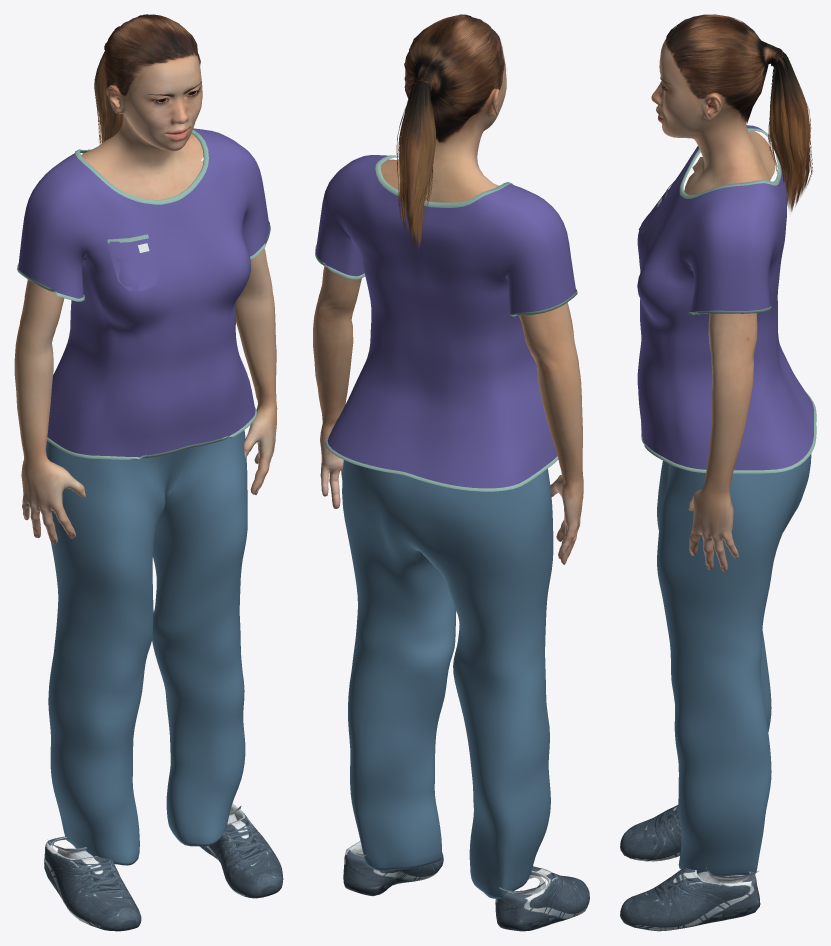
Rendered from female_patient.glb.
The picture shows the model from 3 angles, left to right: view 1: azimuth 30°, elevation 25°; view 2: azimuth 150°, elevation 25°; view 3: azimuth 270°, elevation 25°; orthographic projection. The views are drawn at different scales.
Visible parts, largest first — view 1: Clinical_Trousers, Clinical_Top, Visible_Skin, Clinical_Shoes, Hair, Shirt_Collar_Cuffs_Hem, Shirt_Chest_Pocket; view 2: Clinical_Trousers, Clinical_Top, Visible_Skin, Hair, Clinical_Shoes, Shirt_Collar_Cuffs_Hem; view 3: Clinical_Trousers, Clinical_Top, Visible_Skin, Hair, Clinical_Shoes, Shirt_Collar_Cuffs_Hem.
Part boxes in pixels (bbox=[...]): Clinical_Trousers: bbox=[46, 430, 247, 865]; Clinical_Top: bbox=[18, 128, 269, 457]; Visible_Skin: bbox=[14, 53, 277, 544]; Clinical_Shoes: bbox=[44, 803, 283, 931]; Hair: bbox=[94, 14, 200, 144]; Shirt_Collar_Cuffs_Hem: bbox=[17, 130, 270, 460]; Shirt_Chest_Pocket: bbox=[107, 234, 158, 290]; Clinical_Trousers: bbox=[342, 460, 553, 898]; Clinical_Top: bbox=[316, 155, 576, 488]; Visible_Skin: bbox=[313, 46, 583, 564]; Hair: bbox=[396, 14, 504, 250]; Clinical_Shoes: bbox=[343, 841, 589, 931]; Shirt_Collar_Cuffs_Hem: bbox=[315, 155, 577, 491]; Clinical_Trousers: bbox=[657, 454, 811, 876]; Clinical_Top: bbox=[637, 125, 813, 470]; Visible_Skin: bbox=[651, 39, 775, 571]; Hair: bbox=[666, 14, 813, 211]; Clinical_Shoes: bbox=[620, 805, 760, 931]; Shirt_Collar_Cuffs_Hem: bbox=[641, 128, 816, 473].
Size of the model in its own units: 0.5148 by 1.66 by 0.3408.
Materials: 11 (6 with a texture image).
